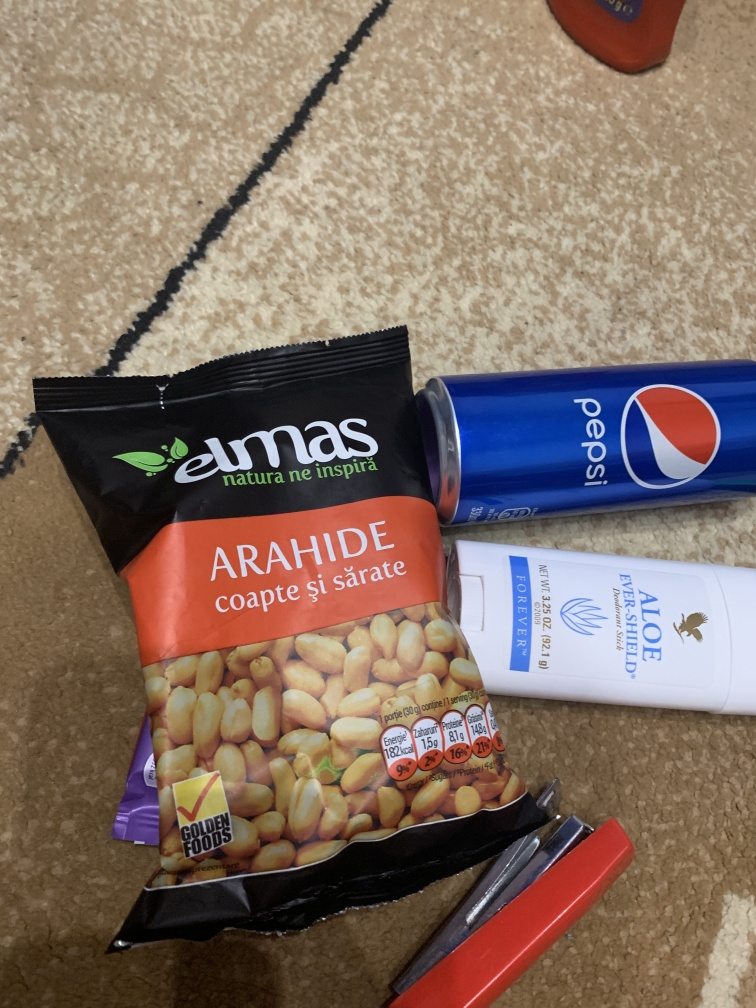peanuts: (38, 325, 534, 940)
pepsi: (418, 357, 756, 536)
